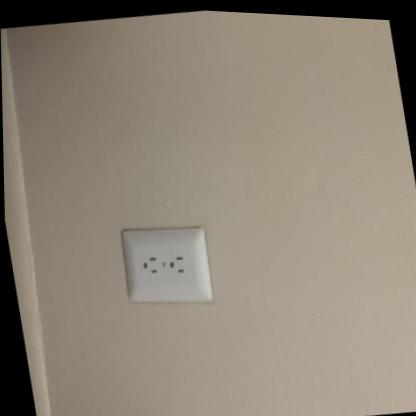OUTLET: (117, 219, 214, 310)
